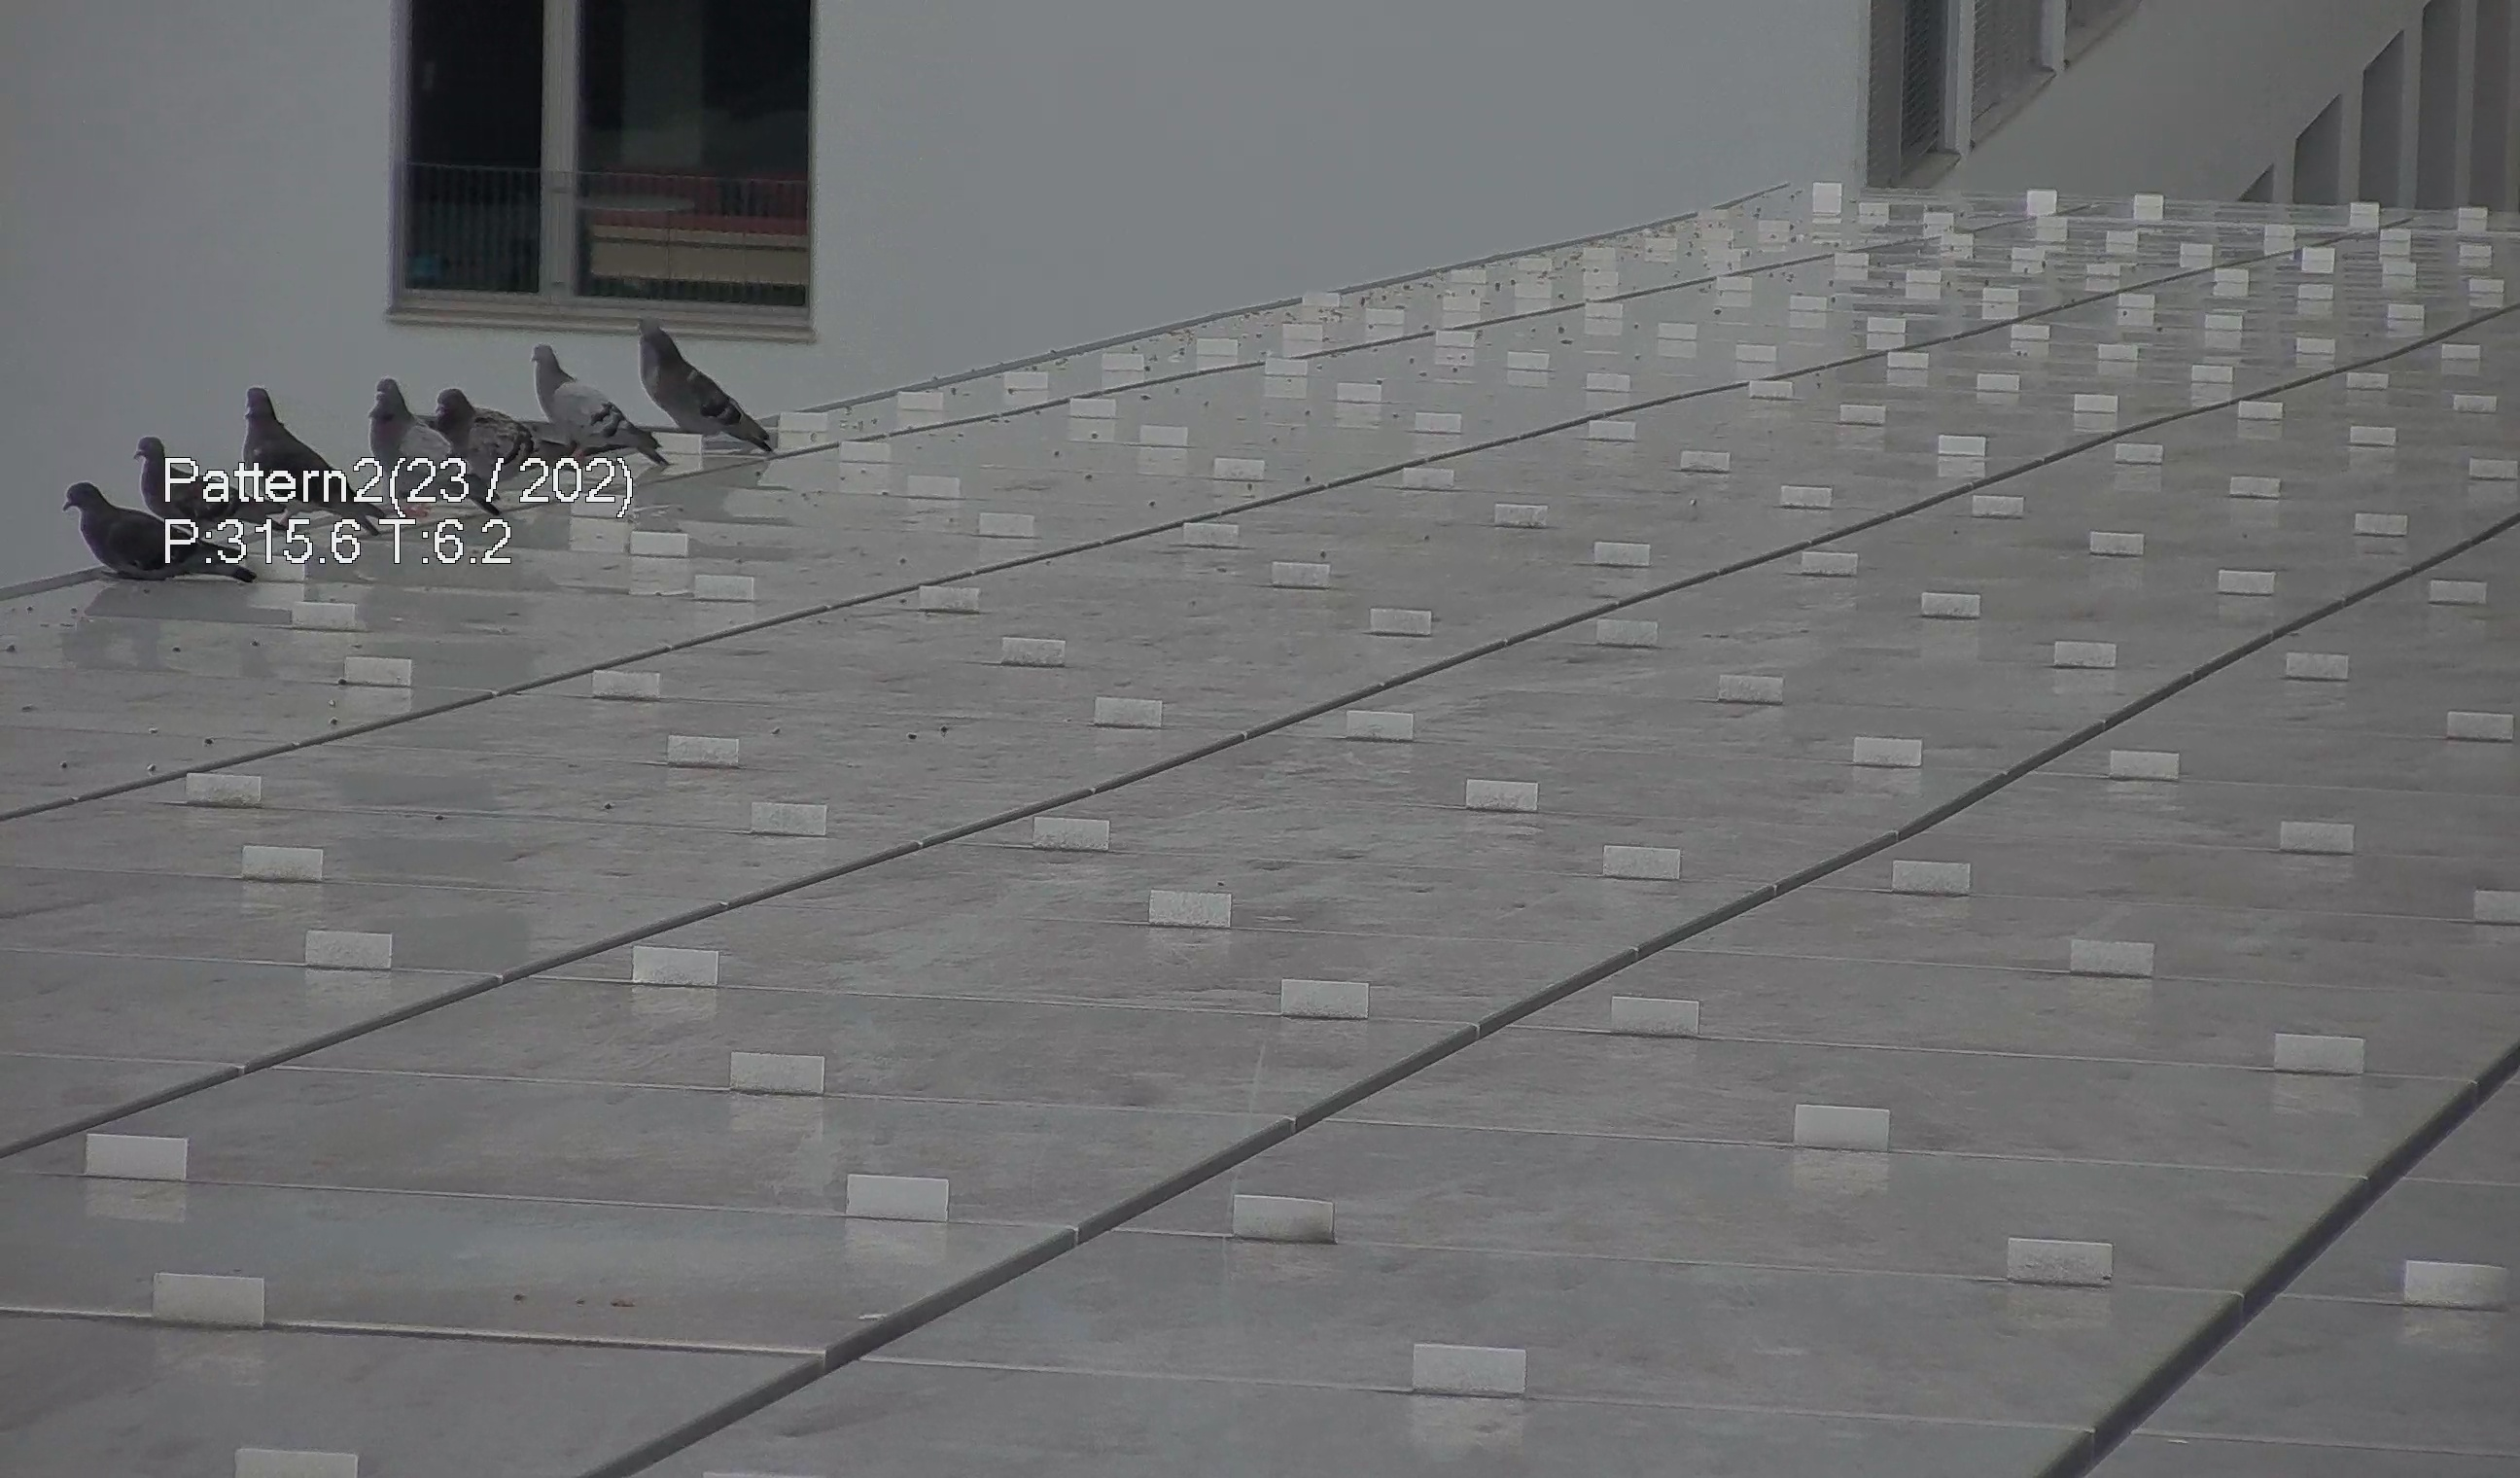Pigeon: (615, 311, 768, 465), (49, 470, 218, 586), (127, 417, 278, 545), (506, 331, 644, 457), (237, 380, 362, 519), (366, 375, 455, 477), (434, 392, 554, 465)
